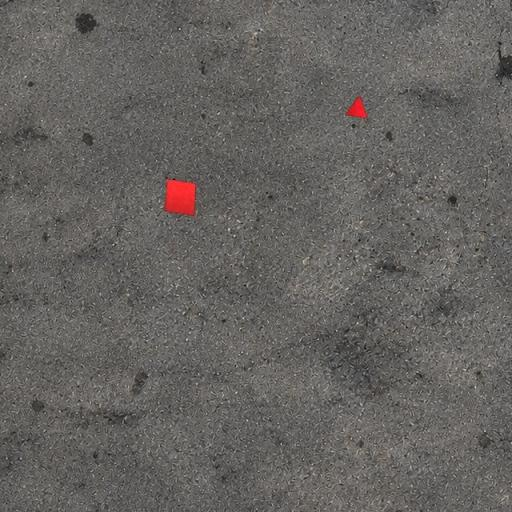RED_SQUARE: (164, 178, 197, 216)
